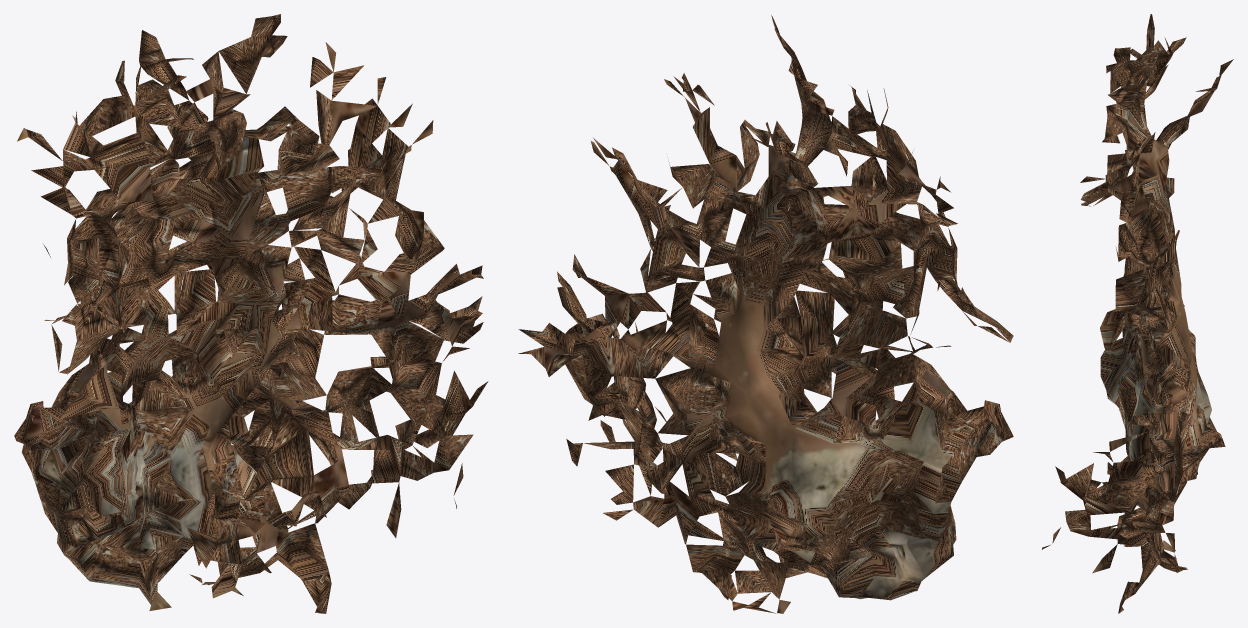
Rendered from hydrozoan-distichopora-violacea.glb.
The picture shows the model from 3 angles, left to right: view 1: azimuth 30°, elevation 25°; view 2: azimuth 150°, elevation 25°; view 3: azimuth 270°, elevation 25°; orthographic projection. The views are drawn at different scales.
Bounding box in the file's own units: 0.1984 × 0.2367 × 0.0755.
Materials: 1 (1 with a texture image).
